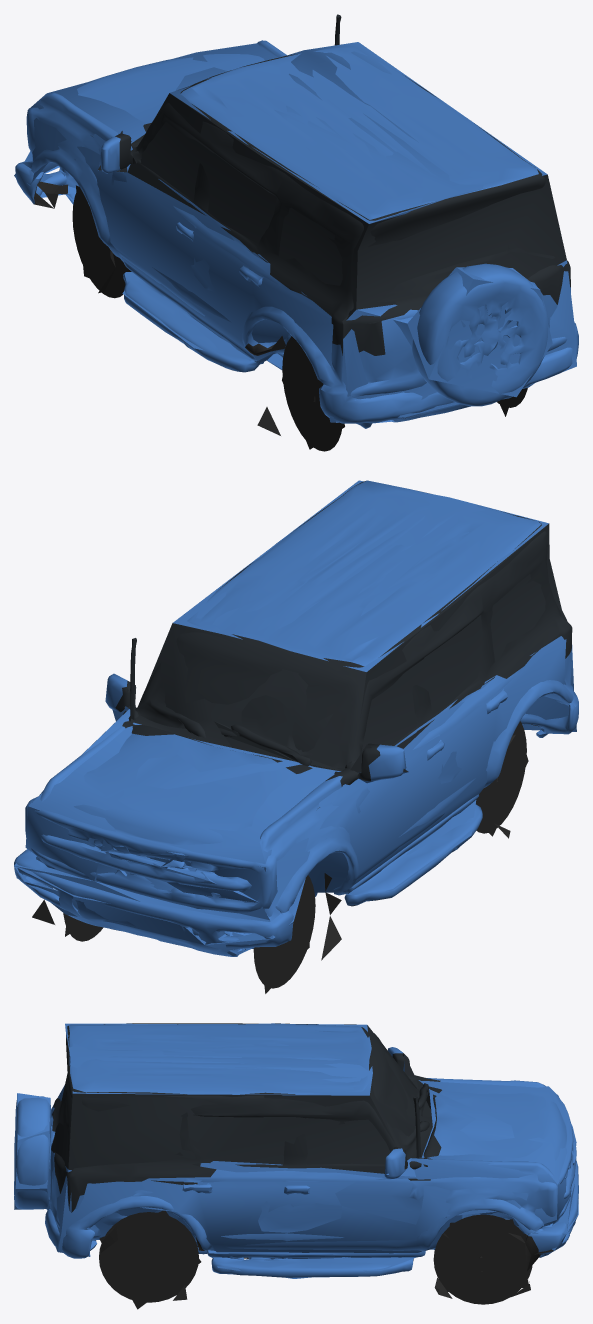
Rendered from ford-bronco.glb.
3 views of the same model, one above another, from view 1: azimuth 30°, elevation 25°; view 2: azimuth 150°, elevation 25°; view 3: azimuth 270°, elevation 25° (orthographic). The views are drawn at different scales.
Parts seen in each view (by area): view 1: body, far; view 2: body, far; view 3: body, far.
Boxes of the visible parts, left/top/right/bottom form: body: left=15, top=14, right=578, bottom=451; far: left=14, top=42, right=576, bottom=449; body: left=14, top=480, right=578, bottom=988; far: left=14, top=480, right=576, bottom=993; body: left=14, top=1023, right=578, bottom=1304; far: left=14, top=1023, right=578, bottom=1309.
Bounding box in the file's own units: 2.2 × 1.92 × 4.49.
